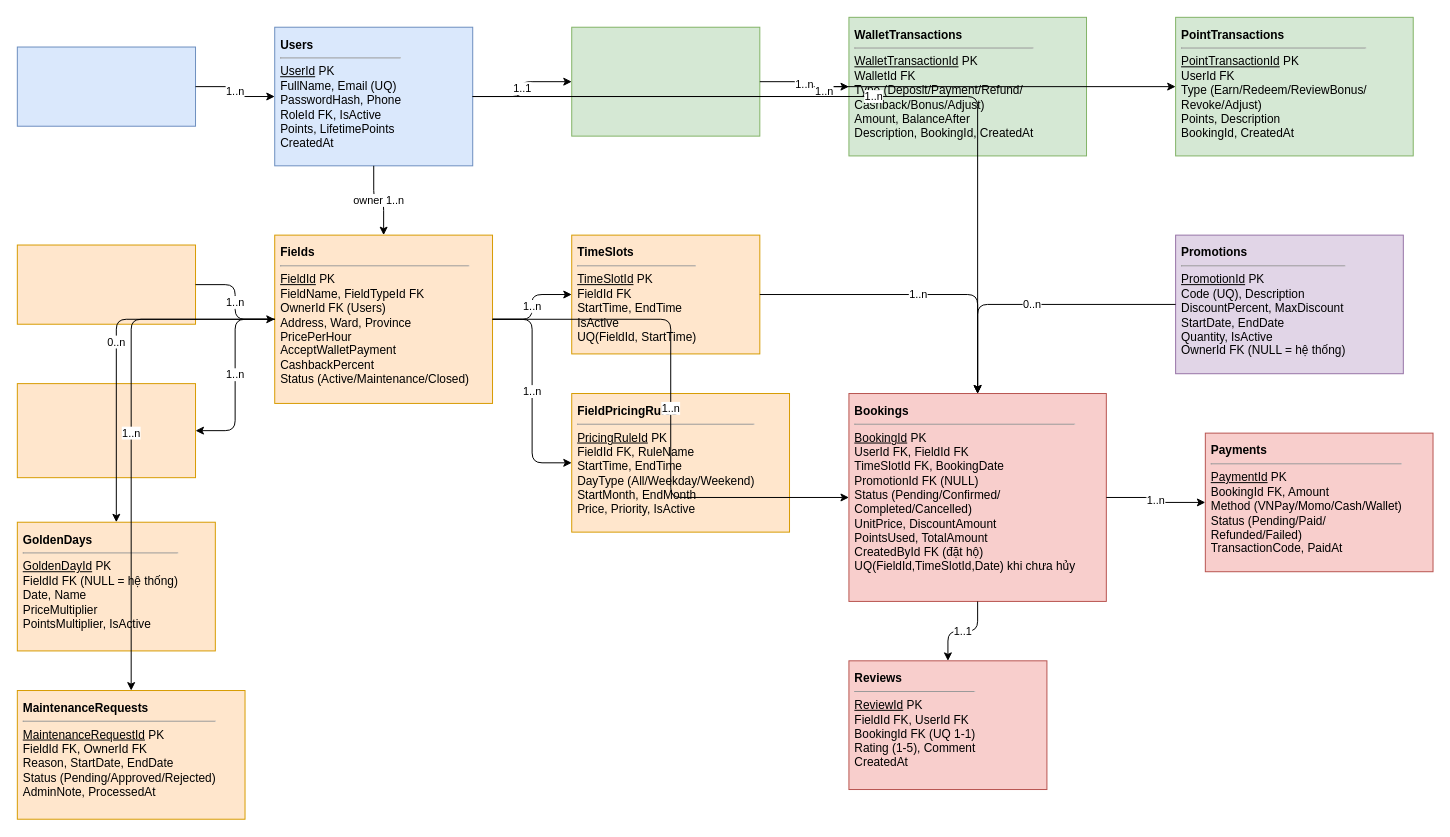
Image size: 1450x837. Some labels were removed from this diagram. The box of each missing label's shape, as (x1, y1, x2, y2) in pixels:
FieldImages ImageId PK FieldId FK ImageUrl, IsPrimary: (16, 383, 196, 478)
FieldTypes FieldTypeId PK TypeName (UQ): (16, 244, 196, 324)
Roles RoleId PK RoleName: (16, 46, 196, 126)
Wallets WalletId PK UserId FK (UQ 1-1) Balance, IsLocked UpdatedAt: (571, 26, 760, 136)
